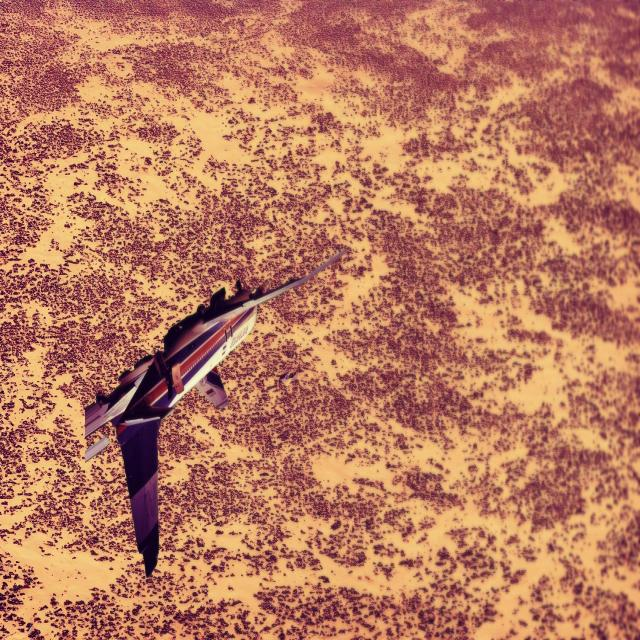airplane: (83, 245, 346, 578)
